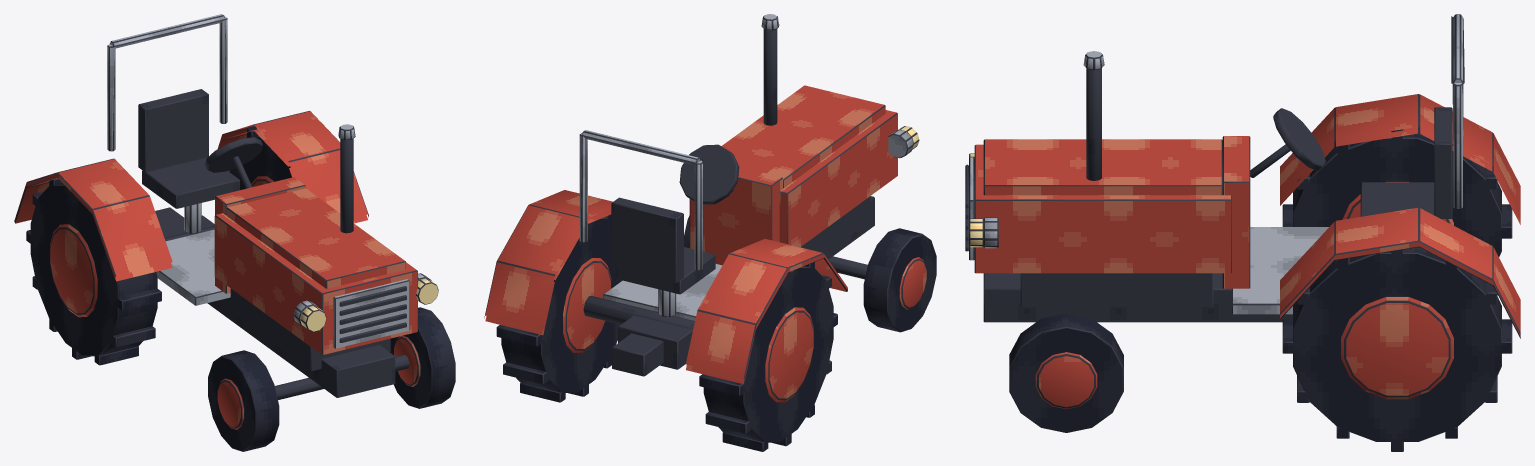
Rendered from cn_tractor_1.glb.
3 views of the same model, side by side, from view 1: azimuth 30°, elevation 25°; view 2: azimuth 150°, elevation 25°; view 3: azimuth 270°, elevation 25° (orthographic). The views are drawn at different scales.
Parts seen in each view (by area): view 1: cn_tractor_2; view 2: cn_tractor_2; view 3: cn_tractor_2.
Part boxes in pixels (<box>): cn_tractor_2: <box>14,14,455,451</box>; cn_tractor_2: <box>484,14,936,451</box>; cn_tractor_2: <box>965,14,1520,451</box>.
Size of the model in its own units: 1.9 by 2.06 by 3.02.
Materials: 5 (5 with a texture image).
